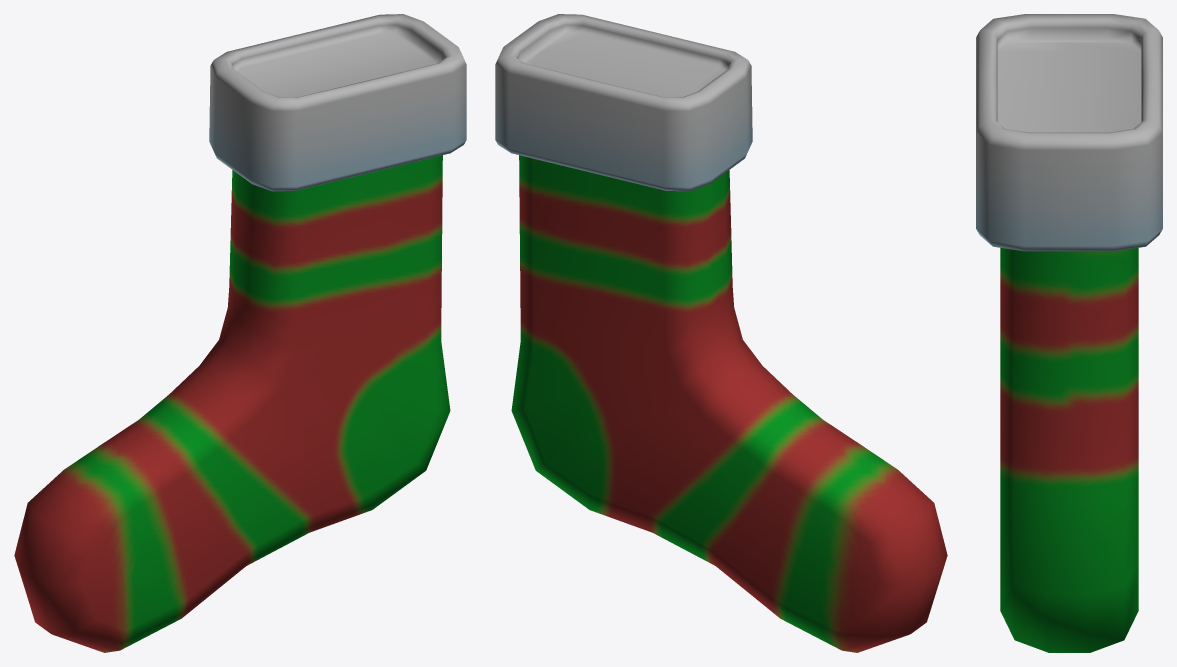
File: sock.fbx
The picture shows the model from 3 angles, left to right: view 1: azimuth 30°, elevation 25°; view 2: azimuth 150°, elevation 25°; view 3: azimuth 270°, elevation 25°; orthographic projection. The views are drawn at different scales.
Visible parts, largest first — view 1: sock; view 2: sock; view 3: sock.
Part boxes in pixels (x1,y1,x2,y2): sock: (14,14,466,652); sock: (495,14,947,652); sock: (976,14,1162,652).
Bounding box in the file's own units: 16.11 × 19.66 × 4.95.
